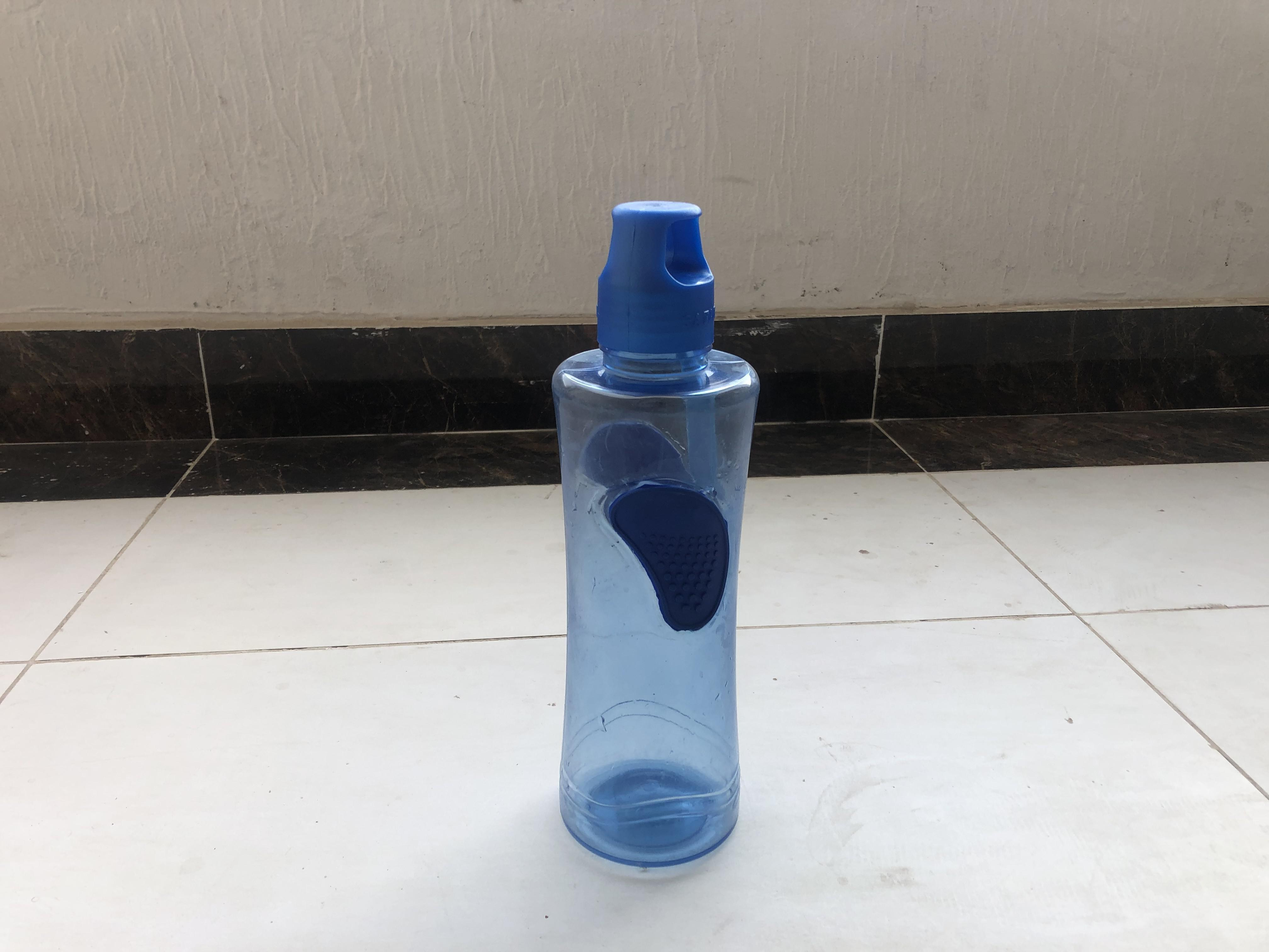gym bottle: (550, 196, 764, 870)
